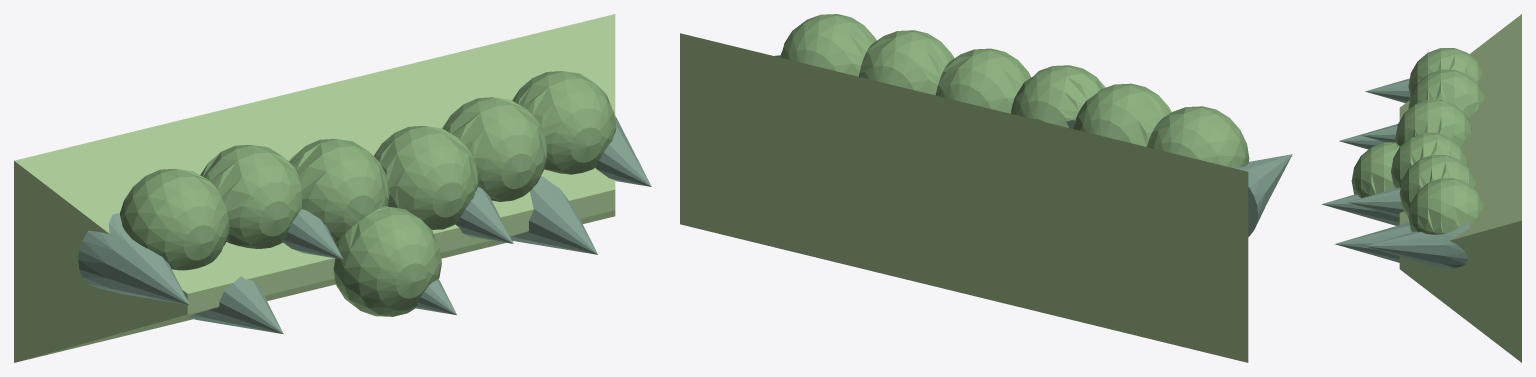
File: r-11-bystrc-forested-ridge.glb
3 renders of one model, left to right at view 1: azimuth 30°, elevation 25°; view 2: azimuth 150°, elevation 25°; view 3: azimuth 270°, elevation 25°, orthographic. The views are drawn at different scales.
Parts seen in each view (by area): view 1: hill, broadleaf, pines; view 2: hill, broadleaf, pines; view 3: hill, broadleaf, pines.
Boxes of the visible parts, x1,y1,x2,y2 form: hill: (14, 14, 615, 362); broadleaf: (120, 71, 616, 316); pines: (78, 116, 651, 334); hill: (680, 33, 1248, 362); broadleaf: (780, 14, 1249, 167); pines: (774, 55, 1292, 236); hill: (1399, 14, 1521, 362); broadleaf: (1351, 48, 1484, 234); pines: (1321, 78, 1469, 267).
Bounding box in the file's own units: 56000 × 18432 × 23001.
